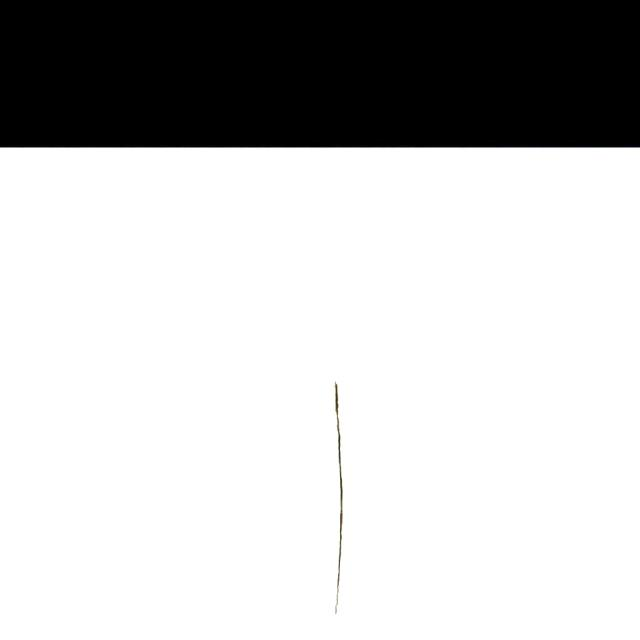crack: (327, 374, 349, 616)
